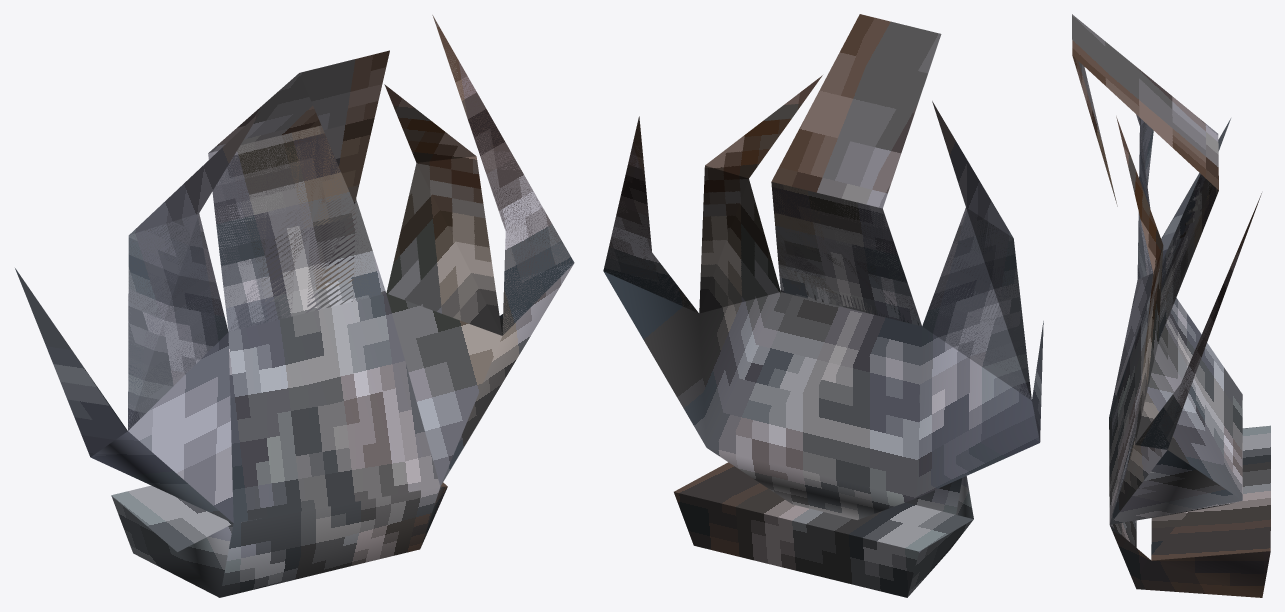
File: frn_all_decorative_sm_s3_l2.fbx
The picture shows the model from 3 angles, left to right: view 1: azimuth 30°, elevation 25°; view 2: azimuth 150°, elevation 25°; view 3: azimuth 270°, elevation 25°; orthographic projection. The views are drawn at different scales.
Visible parts, largest first — view 1: mesh_node; view 2: mesh_node; view 3: mesh_node.
Boxes of the visible parts, bbox=[...] form: mesh_node: bbox=[15, 15, 574, 597]; mesh_node: bbox=[603, 14, 1043, 597]; mesh_node: bbox=[1072, 14, 1270, 597].
Size of the model in its own units: 0.4033 by 0.3955 by 0.1414.
